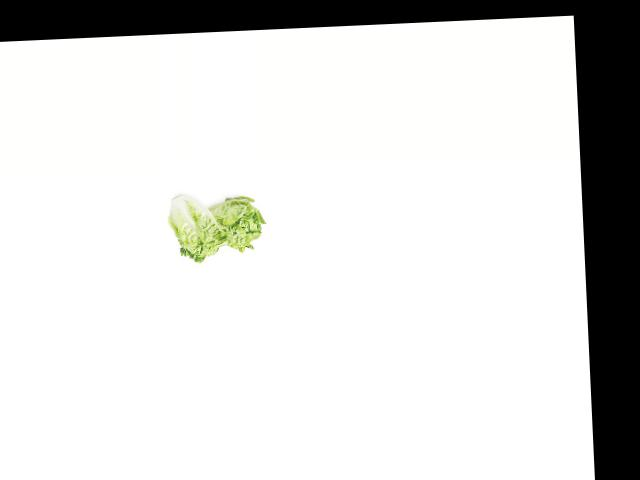lettuce: (203, 187, 266, 254)
